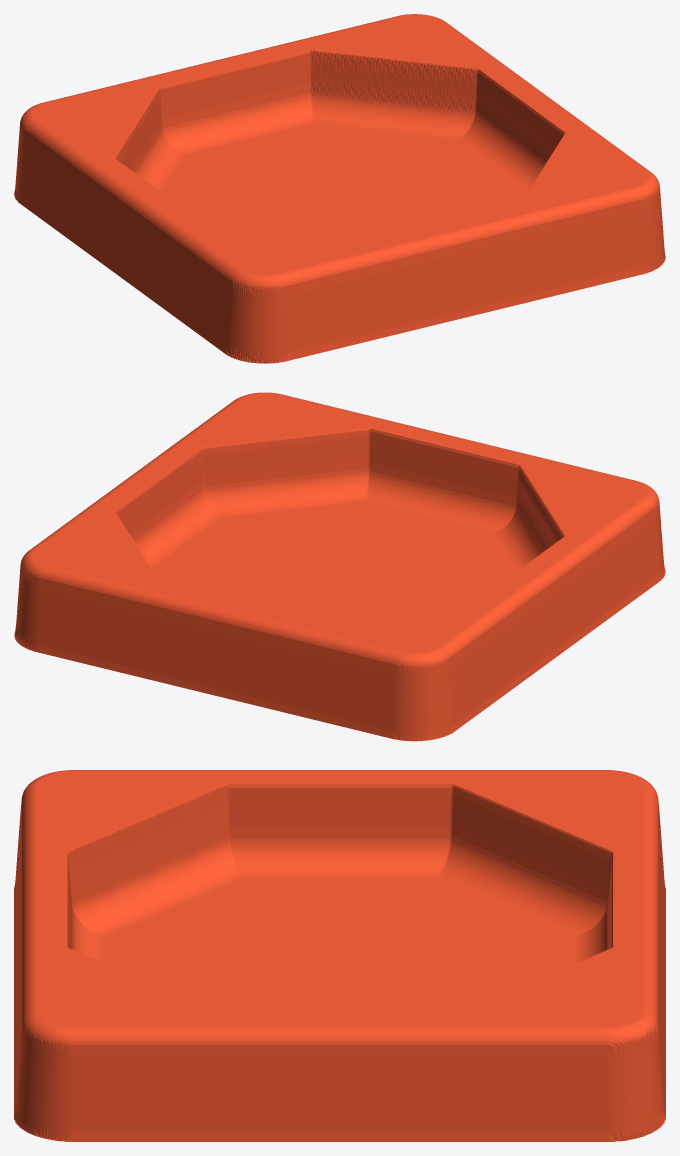
File: mold.glb
3 views of the same model, one above another, from view 1: azimuth 30°, elevation 25°; view 2: azimuth 150°, elevation 25°; view 3: azimuth 270°, elevation 25° (orthographic). The views are drawn at different scales.
Visible parts, largest first — view 1: geometry_0; view 2: geometry_0; view 3: geometry_0.
Boxes of the visible parts, x1,y1,x2,y2 form: geometry_0: [14, 14, 665, 363]; geometry_0: [14, 392, 665, 741]; geometry_0: [14, 770, 665, 1141].
Size of the model in its own units: 0.0986 by 0.0175 by 0.0986.
